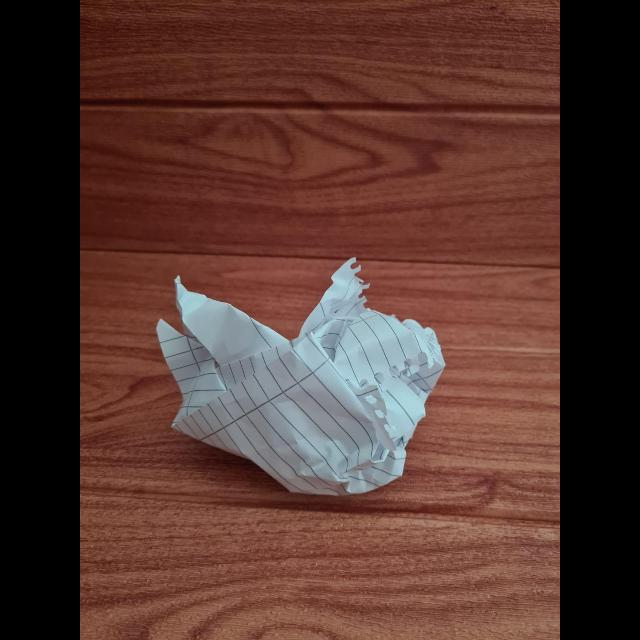scrap_paper: (155, 280, 449, 496)
